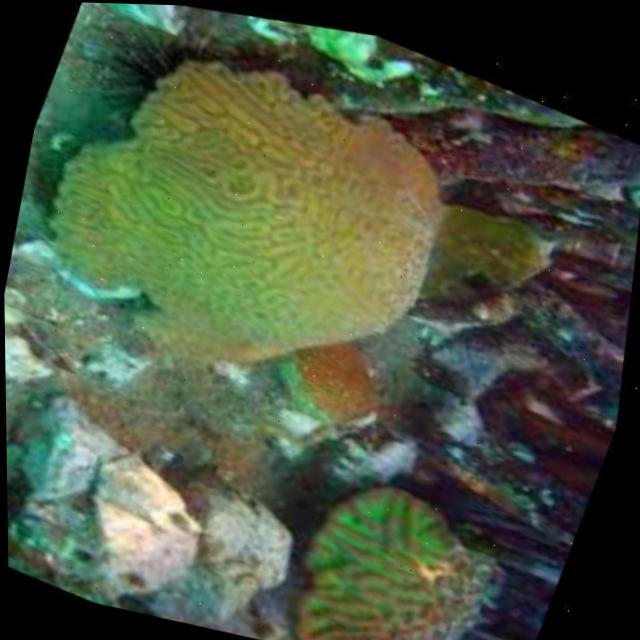Healthy Coral: (0, 0, 536, 481), (262, 429, 555, 640)
